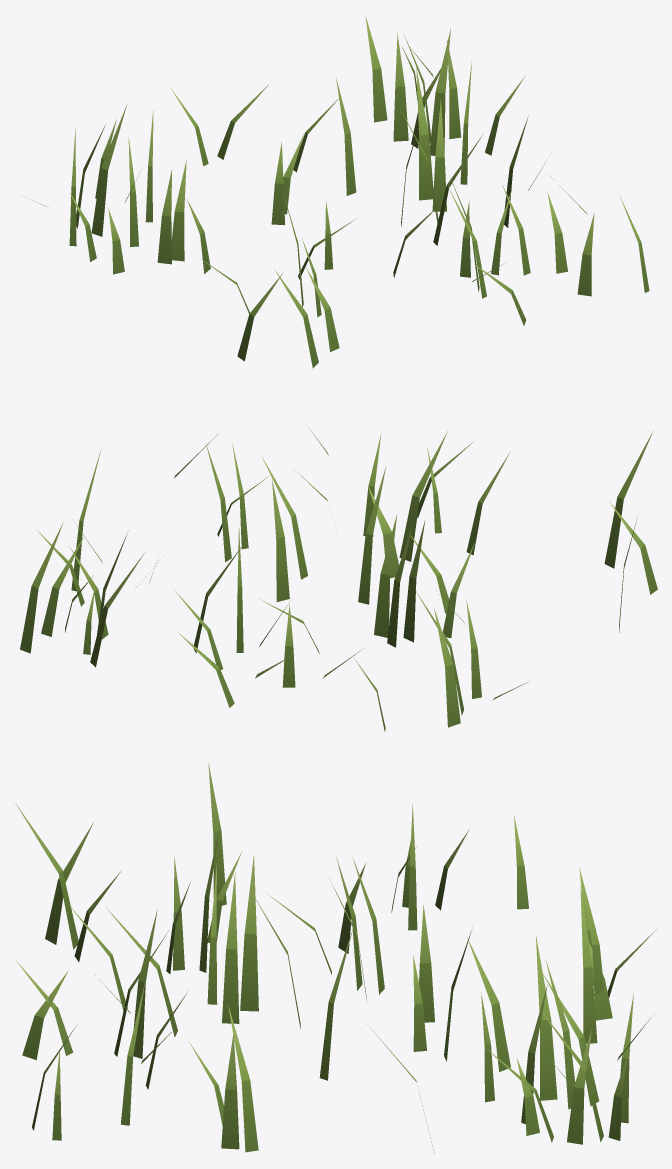
Rendered from WoodlandGrass_0.glb.
3 renders of one model, top to bottom at view 1: azimuth 30°, elevation 25°; view 2: azimuth 150°, elevation 25°; view 3: azimuth 270°, elevation 25°, orthographic. The views are drawn at different scales.
Visible parts, largest first — view 1: WoodlandGrass_0; view 2: WoodlandGrass_0; view 3: WoodlandGrass_0.
Part boxes in pixels (left/top/right/bottom): WoodlandGrass_0: left=23, top=15, right=649, bottom=368; WoodlandGrass_0: left=20, top=428, right=657, bottom=731; WoodlandGrass_0: left=15, top=762, right=656, bottom=1153.
Size of the model in its own units: 1.54 by 0.3496 by 1.47.
